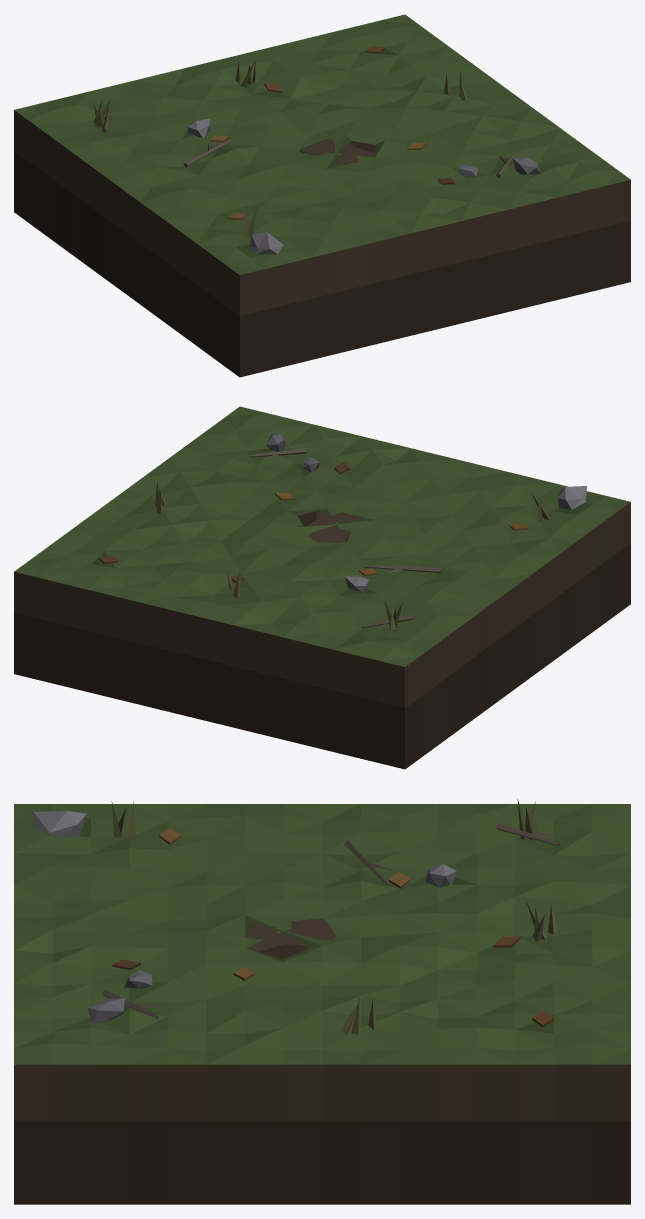
File: haunt_grass_3.glb
3 views of the same model, one above another, from view 1: azimuth 30°, elevation 25°; view 2: azimuth 150°, elevation 25°; view 3: azimuth 270°, elevation 25° (orthographic). The views are drawn at different scales.
Parts seen in each view (by area): view 1: HauntGrass3; view 2: HauntGrass3; view 3: HauntGrass3.
Boxes of the visible parts, box(x1,y1,x2,y2) form: HauntGrass3: box(14, 14, 630, 377); HauntGrass3: box(14, 406, 630, 769); HauntGrass3: box(14, 799, 630, 1204).
Bounding box in the file's own units: 2 × 0.6432 × 2.
